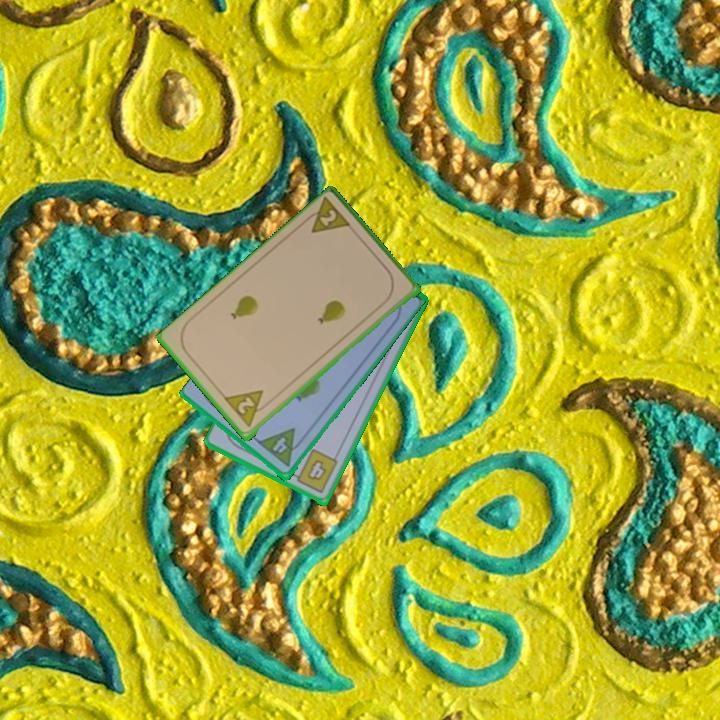2p: (299, 195, 355, 237), (221, 386, 273, 431)
4b: (288, 446, 341, 497)
4p: (255, 425, 308, 470)
